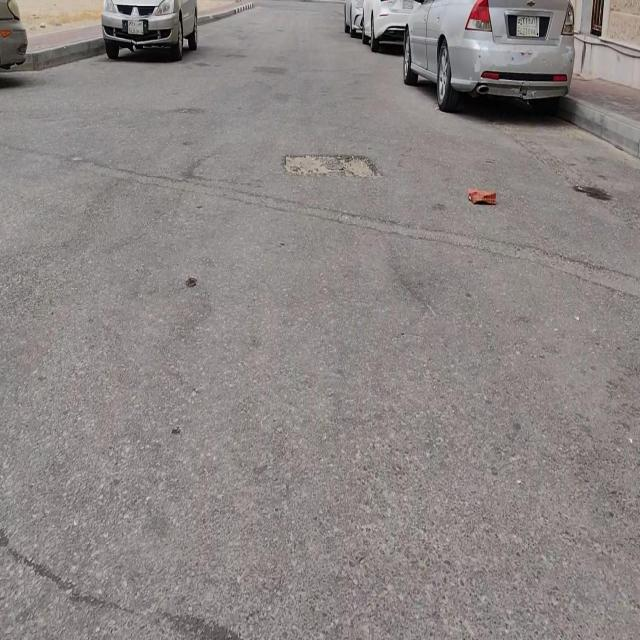Potholes: (284, 152, 378, 174)
